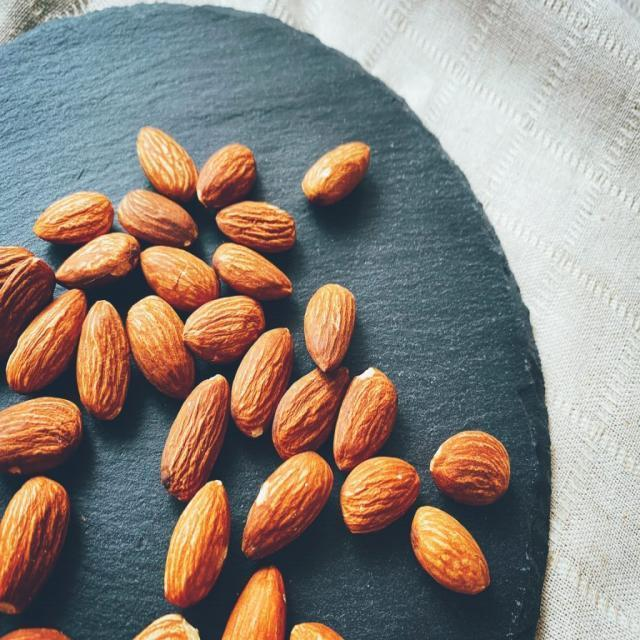almond: (240, 451, 334, 563), (0, 474, 71, 614), (161, 373, 232, 504), (5, 285, 88, 395), (164, 478, 232, 607), (272, 365, 354, 461), (410, 504, 493, 596), (125, 296, 197, 398), (230, 327, 295, 437), (333, 367, 399, 471), (431, 431, 513, 507), (0, 395, 83, 469), (342, 459, 423, 533), (79, 300, 128, 420), (219, 564, 289, 640), (184, 296, 265, 361), (301, 284, 357, 371), (141, 246, 220, 306), (301, 141, 373, 206), (55, 231, 141, 285), (136, 125, 197, 199), (119, 190, 198, 247), (212, 244, 294, 298), (34, 189, 115, 243), (218, 197, 297, 250), (197, 145, 257, 210)
